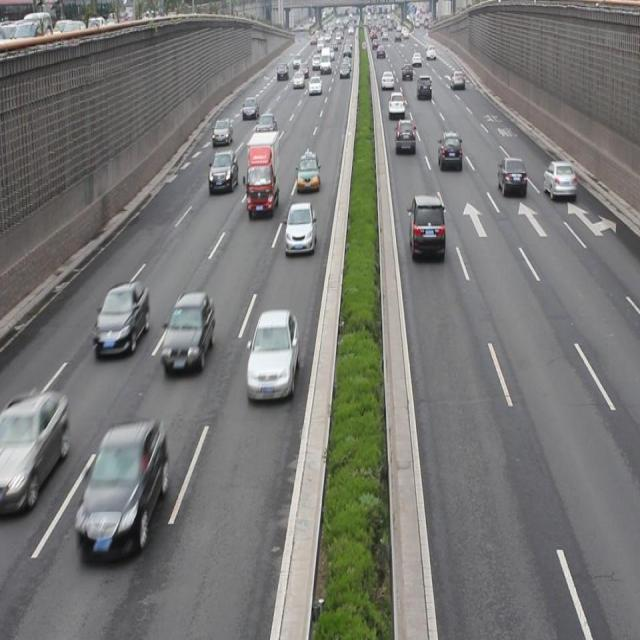bus: (246, 131, 279, 216)
car: (74, 419, 166, 559), (1, 390, 66, 511), (246, 309, 299, 399), (92, 280, 149, 360), (160, 292, 215, 371), (408, 193, 445, 260), (284, 201, 315, 254), (542, 158, 575, 199), (208, 150, 238, 193), (498, 155, 526, 197), (296, 152, 321, 194), (438, 129, 463, 170), (395, 119, 416, 154), (212, 117, 232, 145), (256, 112, 276, 138)
